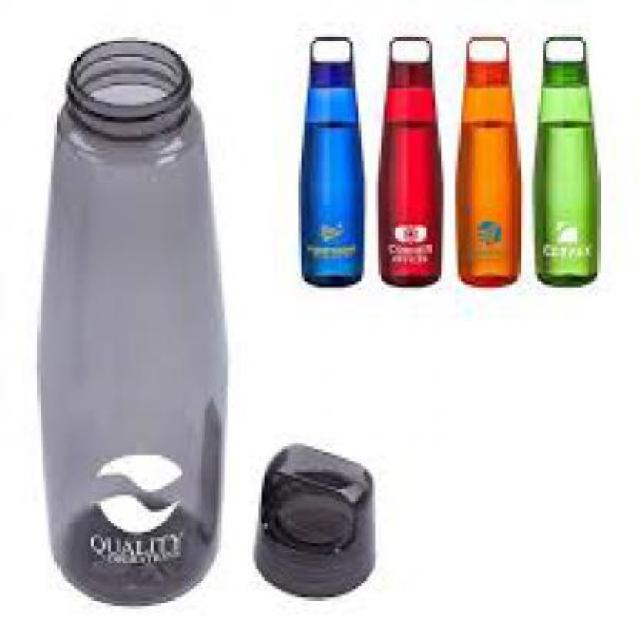Drinking: (27, 21, 380, 623), (271, 25, 372, 287), (528, 20, 612, 291), (455, 31, 523, 302), (385, 25, 446, 287)
